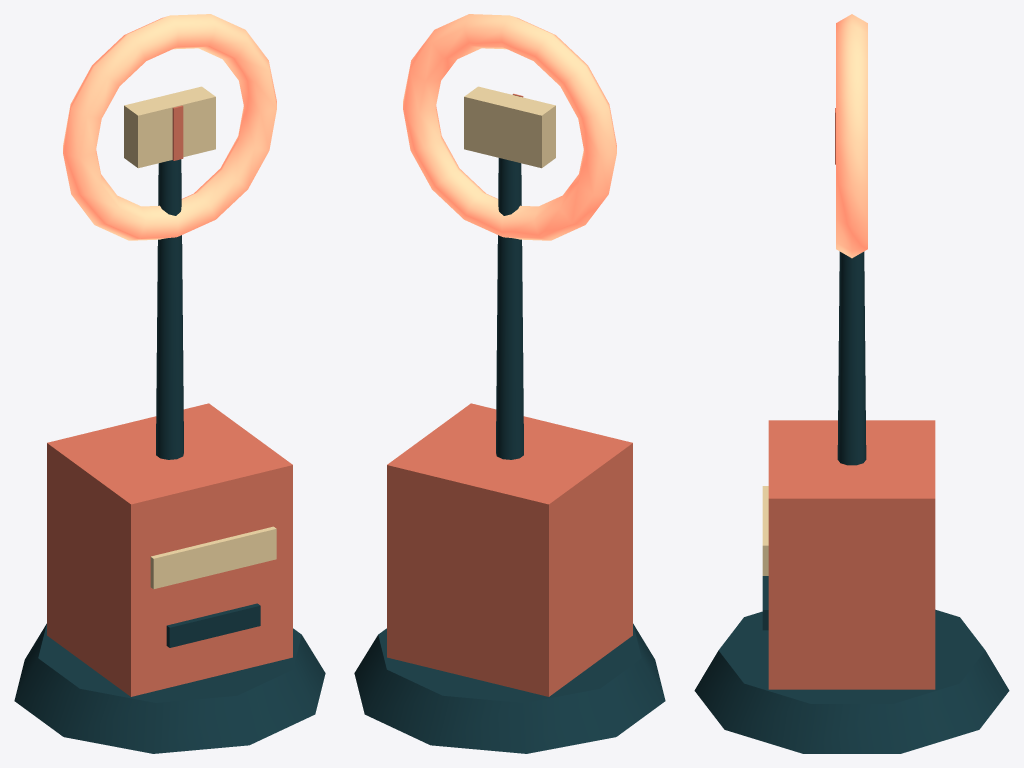
File: parcel-tower-1.glb
The picture shows the model from 3 angles, left to right: view 1: azimuth 30°, elevation 25°; view 2: azimuth 150°, elevation 25°; view 3: azimuth 270°, elevation 25°; orthographic projection.
Size of the model in its own units: 1.62 by 3.96 by 1.7.
